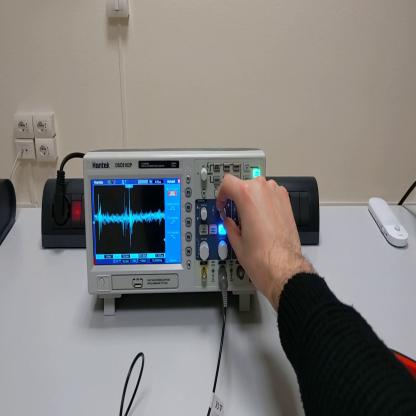hand: (216, 171, 305, 301)
oscilloscope: (84, 150, 266, 314)
pliers: (388, 342, 416, 378)
socket: (42, 177, 86, 249), (2, 177, 20, 248)
